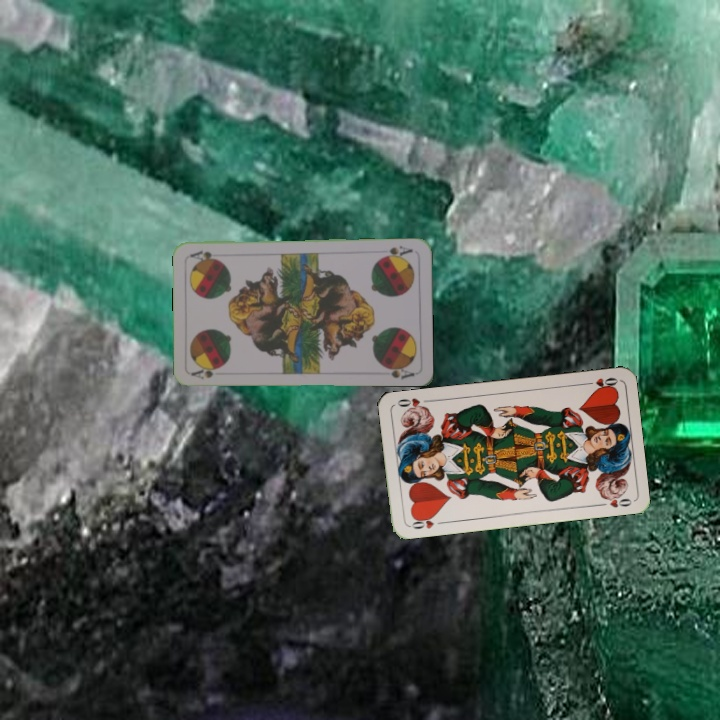HO: (406, 512, 446, 532), (580, 373, 620, 392)
SA: (376, 242, 415, 261), (188, 363, 223, 382)
